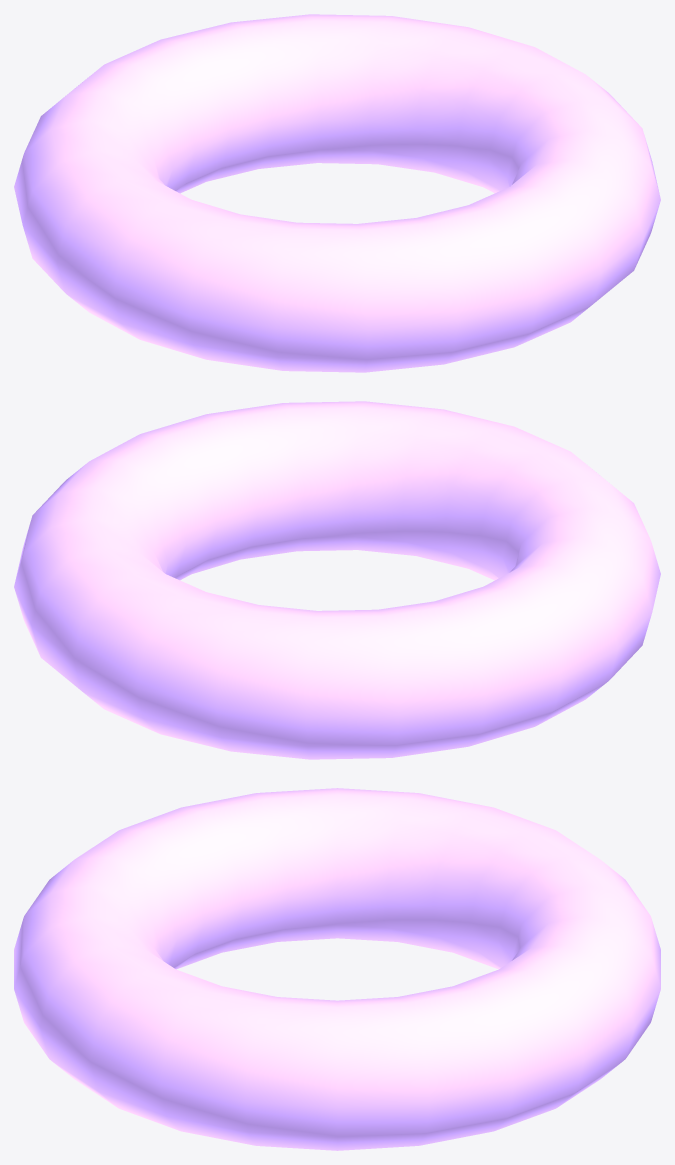
File: vortex.glb
The picture shows the model from 3 angles, top to bottom: view 1: azimuth 30°, elevation 25°; view 2: azimuth 150°, elevation 25°; view 3: azimuth 270°, elevation 25°; orthographic projection.
Parts seen in each view (by area): view 1: vortex; view 2: vortex; view 3: vortex.
Part boxes in pixels (left/top/right/bottom): vortex: left=14, top=14, right=660, bottom=372; vortex: left=14, top=401, right=660, bottom=759; vortex: left=14, top=788, right=660, bottom=1150.
Bounding box in the file's own units: 1.56 × 0.36 × 1.54.
